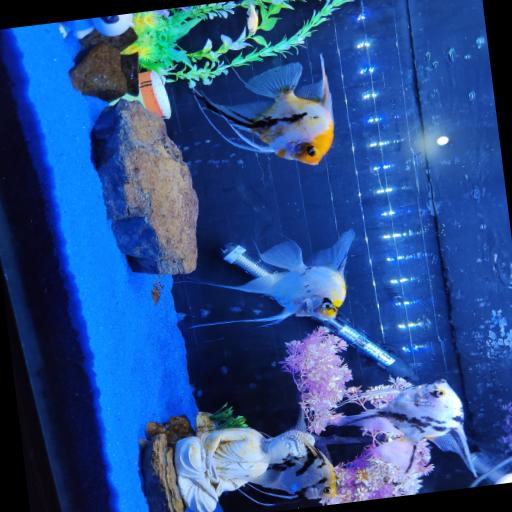Fish: (191, 230, 353, 327), (196, 55, 333, 165), (330, 380, 475, 476), (250, 443, 336, 499), (246, 2, 258, 35)
